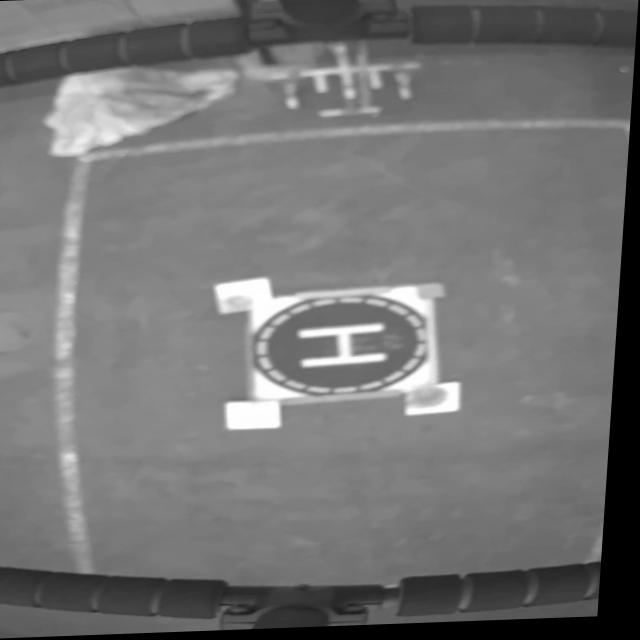Helipad: (304, 324, 393, 371)
